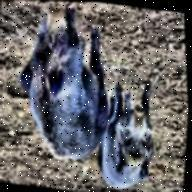boar: (15, 5, 119, 174), (85, 71, 168, 192)
